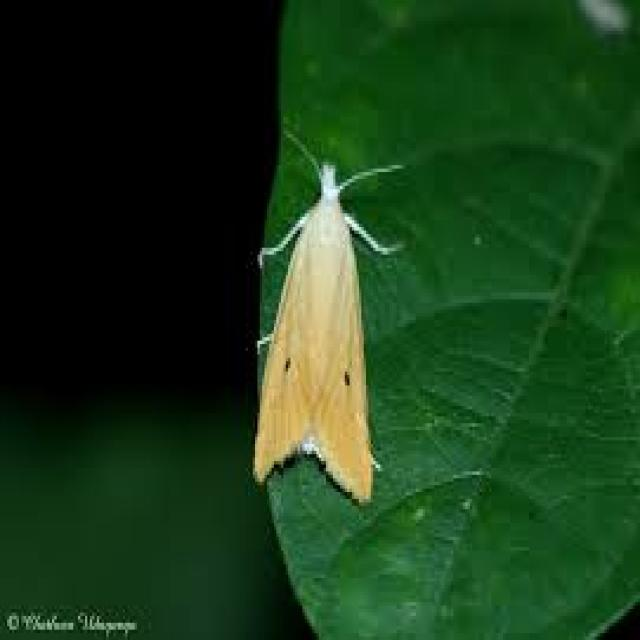yellow-stem-borer: (218, 118, 413, 520)
